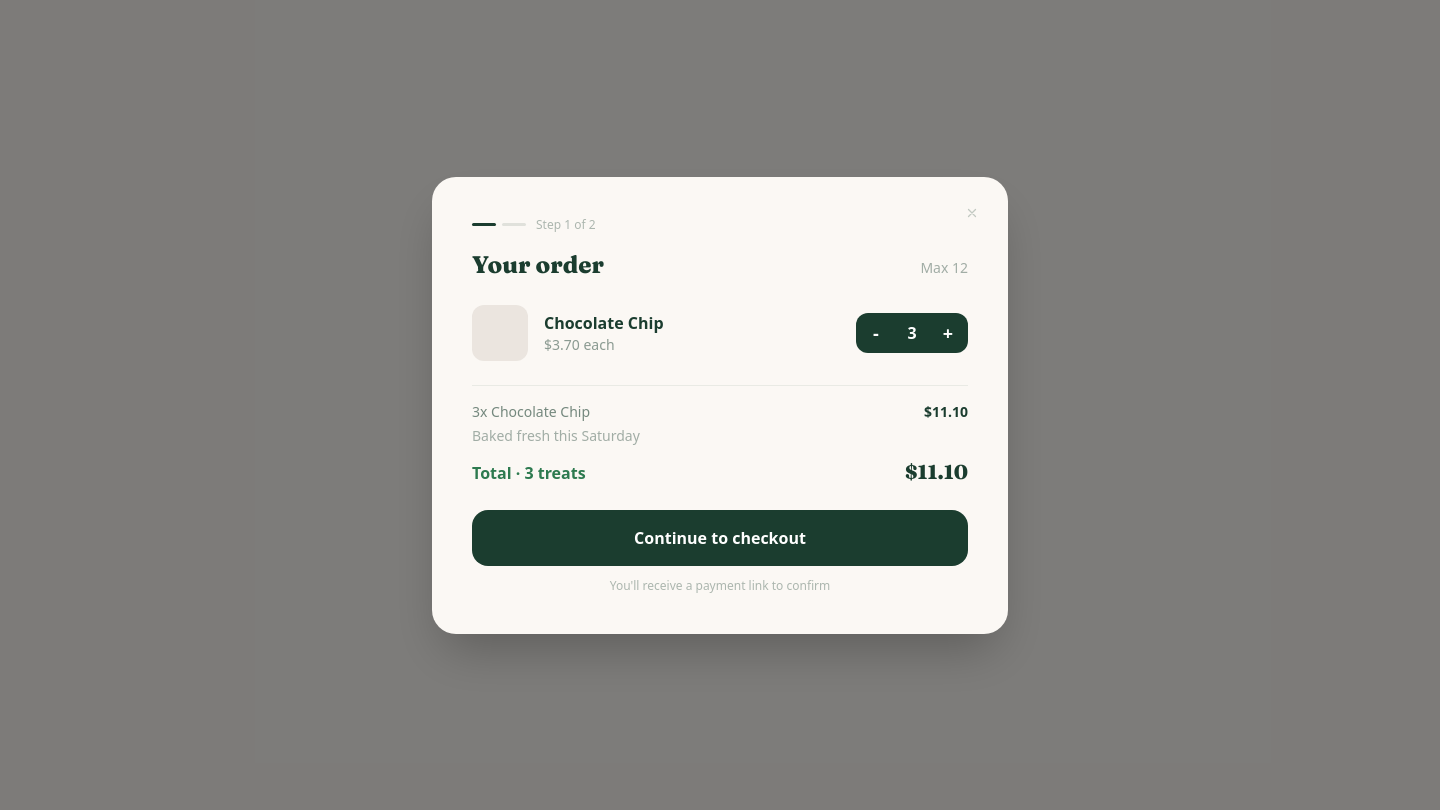
Test: OrderSheet › Step 1: Quantity › Continue button advances to step 2
Click the button "Continue to checkout". click: (720, 538)
box: [472,510,968,566]
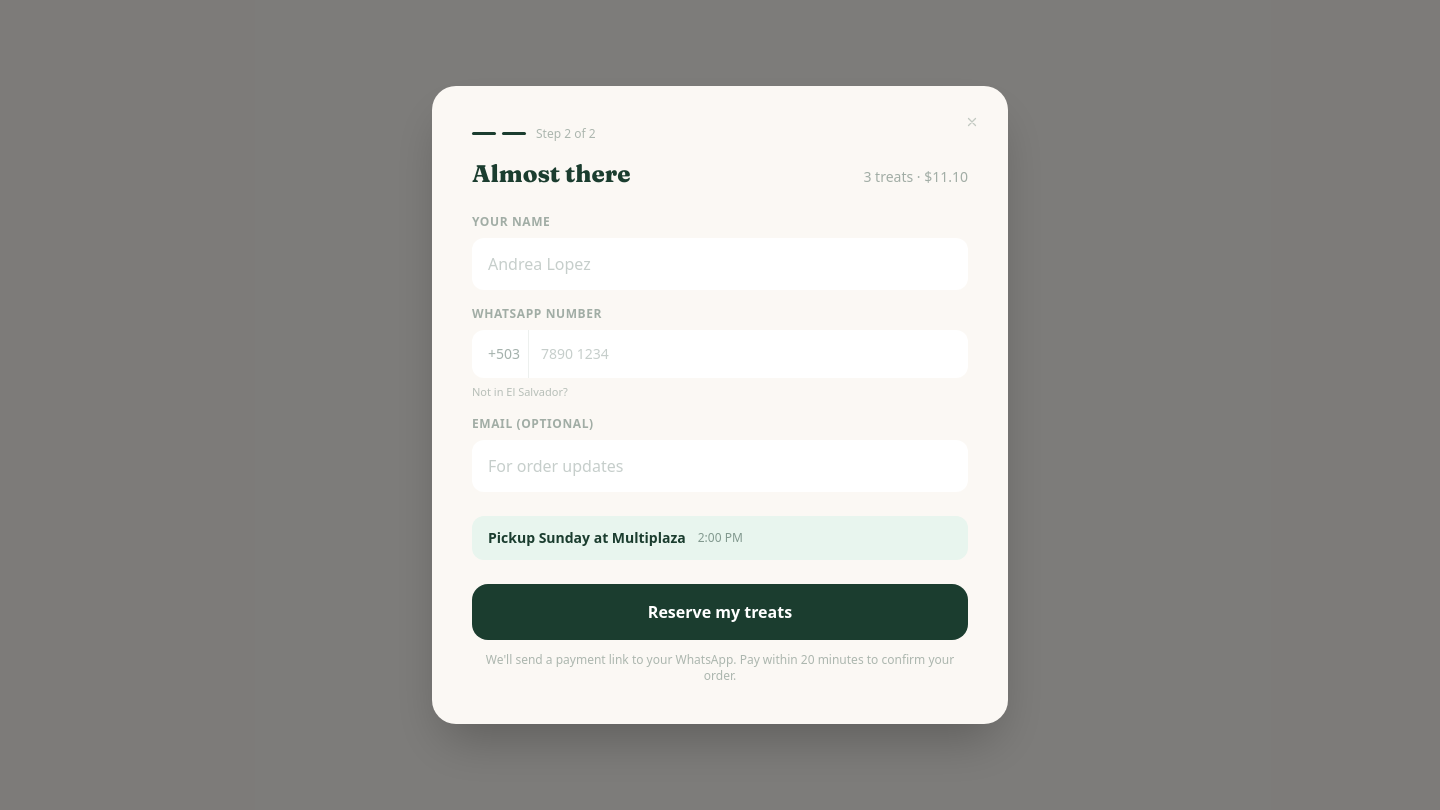
expect the heading "Almost there" is shown: met, box [472,158,630,190]
expect the text "Step 2 of 2" is shown: met, box [536,126,596,142]
